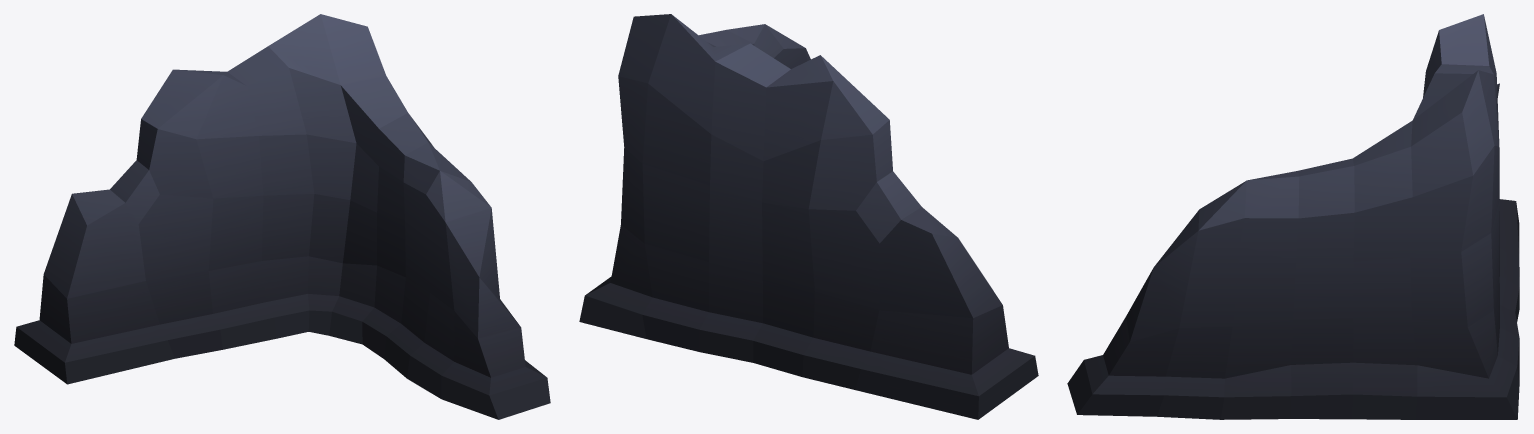
The model's file is SM_Ruined_Walls_6.fbx.
3 views of the same model, side by side, from view 1: azimuth 30°, elevation 25°; view 2: azimuth 150°, elevation 25°; view 3: azimuth 270°, elevation 25° (orthographic). The views are drawn at different scales.
Visible parts, largest first — view 1: Ruined_Walls_6; view 2: Ruined_Walls_6; view 3: Ruined_Walls_6.
Part boxes in pixels (x1,y1,x2,y2): Ruined_Walls_6: (14, 14, 550, 419); Ruined_Walls_6: (579, 14, 1038, 419); Ruined_Walls_6: (1067, 14, 1519, 419).
Bounding box in the file's own units: 398 × 296 × 387.
1 material, 1 textured.
